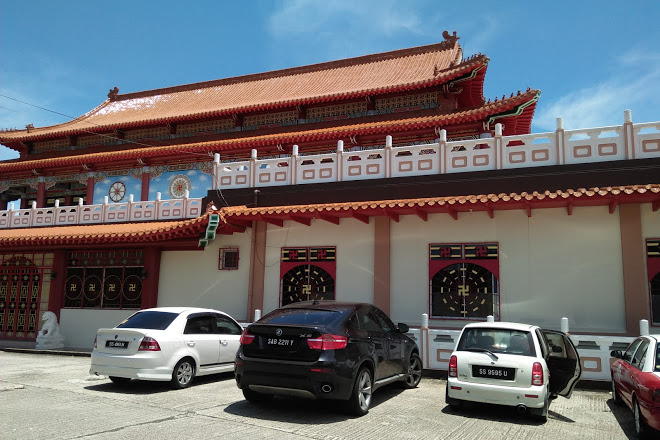Buddhist Temple: (29, 40, 525, 163)
